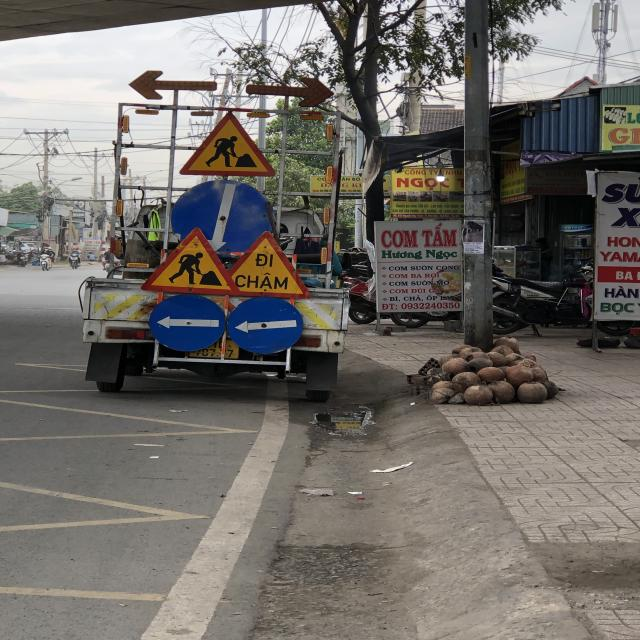Bien bao cong truong: (138, 225, 242, 297), (177, 109, 277, 177)
